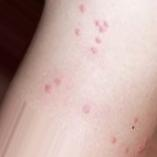Fleas: (134, 138, 153, 154), (76, 2, 88, 14), (95, 20, 107, 32), (88, 45, 100, 56), (108, 134, 119, 145), (44, 84, 53, 94), (53, 77, 62, 86), (129, 123, 136, 131), (74, 28, 79, 36), (95, 37, 101, 43)
